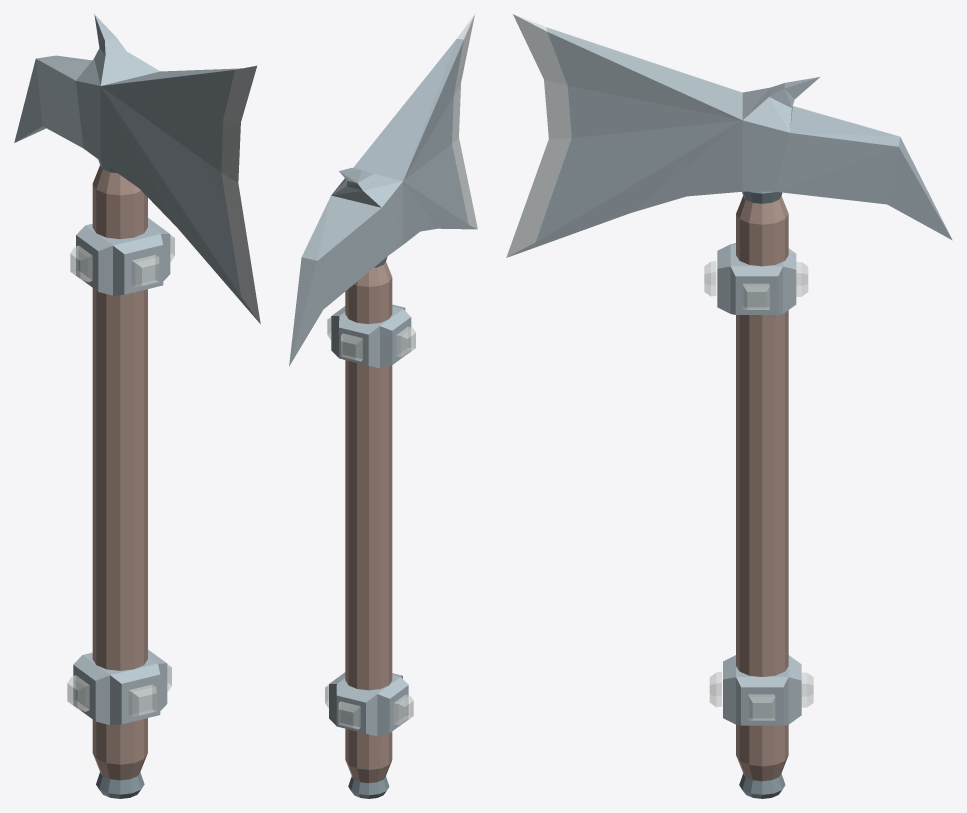
File: Axe_1.fbx
3 views of the same model, side by side, from view 1: azimuth 30°, elevation 25°; view 2: azimuth 150°, elevation 25°; view 3: azimuth 270°, elevation 25° (orthographic). The views are drawn at different scales.
Visible parts, largest first — view 1: mesh2128284662, mesh141109415, mesh2067602530, mesh871693362, mesh1051143535, mesh1153421170; view 2: mesh2128284662, mesh141109415, mesh871693362, mesh2067602530, mesh1051143535, mesh1153421170; view 3: mesh2128284662, mesh141109415, mesh2067602530, mesh871693362, mesh1153421170, mesh1051143535.
Part boxes in pixels (box(x1,y1,x2,y2)): mesh2128284662: box(14, 14, 260, 323); mesh141109415: box(92, 288, 147, 670); mesh2067602530: box(70, 218, 174, 295); mesh871693362: box(67, 649, 171, 725); mesh1051143535: box(92, 718, 147, 798); mesh1153421170: box(92, 159, 147, 239); mesh2128284662: box(289, 14, 477, 366); mesh141109415: box(345, 360, 392, 690); mesh871693362: box(325, 672, 413, 736); mesh2067602530: box(327, 304, 415, 368); mesh1051143535: box(345, 728, 392, 798); mesh1153421170: box(345, 256, 392, 323); mesh2128284662: box(506, 14, 952, 257); mesh141109415: box(736, 310, 788, 676); mesh2067602530: box(704, 243, 808, 314); mesh871693362: box(709, 655, 813, 725); mesh1153421170: box(736, 191, 788, 266); mesh1051143535: box(736, 725, 788, 798).
Bounding box in the file's own units: 15.83 × 131 × 68.
